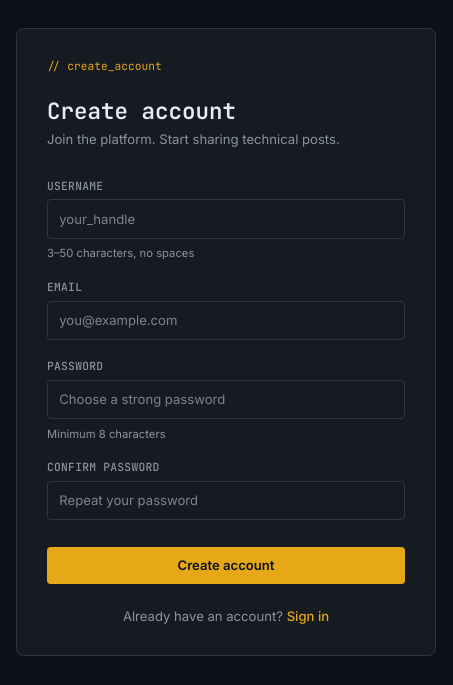
Test case: RegisterView › shows error when email is invalid
Step 1. Type "validuser" into the field with id "username" → (226, 219), box top-left (47, 199), bottom-right (405, 239)
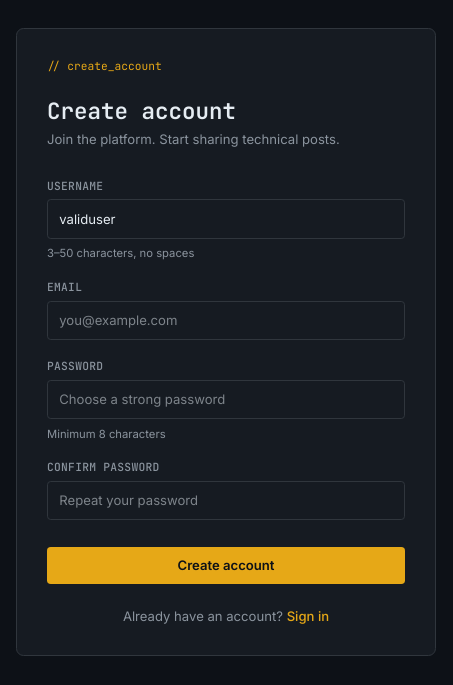
Step 2. Type "not-an-email" into the field with id "email" → (226, 320), box top-left (47, 301), bottom-right (405, 340)
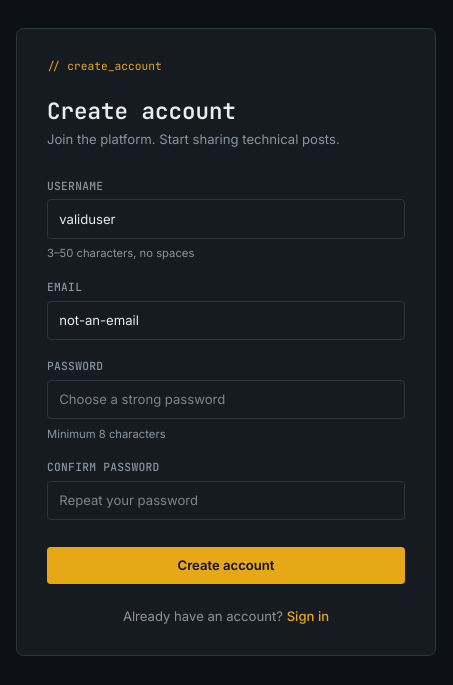
Step 3. Type "password123" into the password field labelled "Password" → (226, 399), box top-left (47, 380), bottom-right (405, 419)
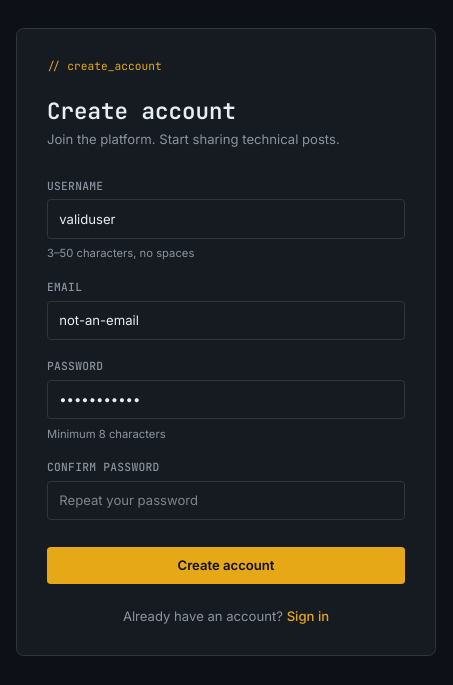
Step 4. Type "password123" into the password field with id "confirmPassword" → (226, 501), box top-left (47, 481), bottom-right (405, 520)
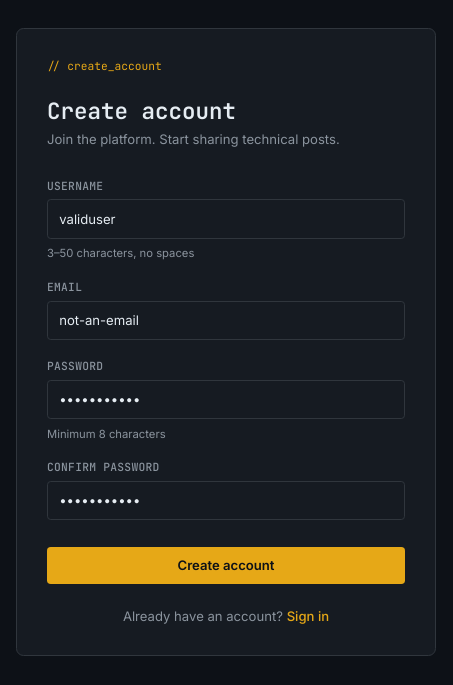
Step 5. Submit the form, box top-left (47, 179), bottom-right (405, 584)
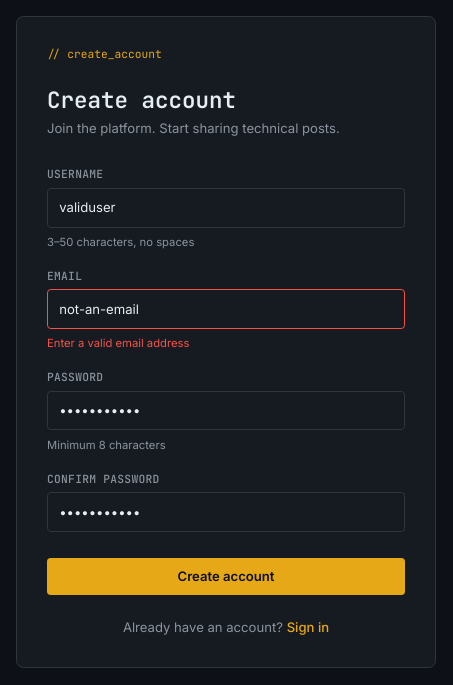
Expected: the text "valid email" is shown, top-left (47, 336), bottom-right (189, 350)
